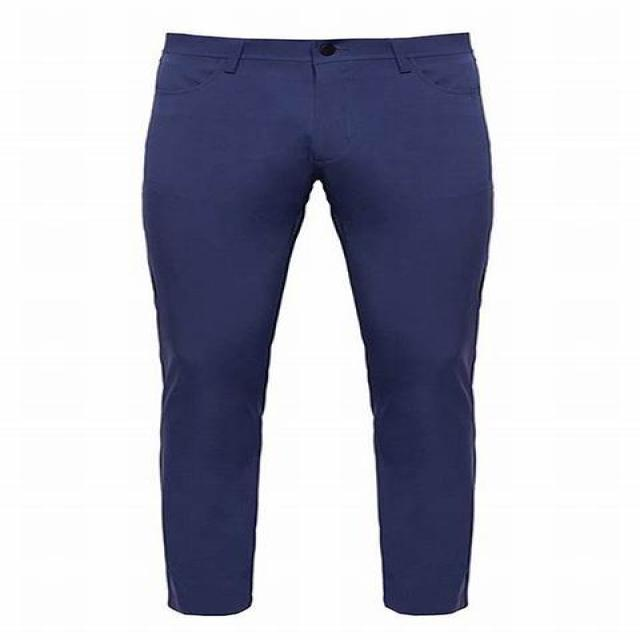long-pants: (137, 29, 495, 616)
